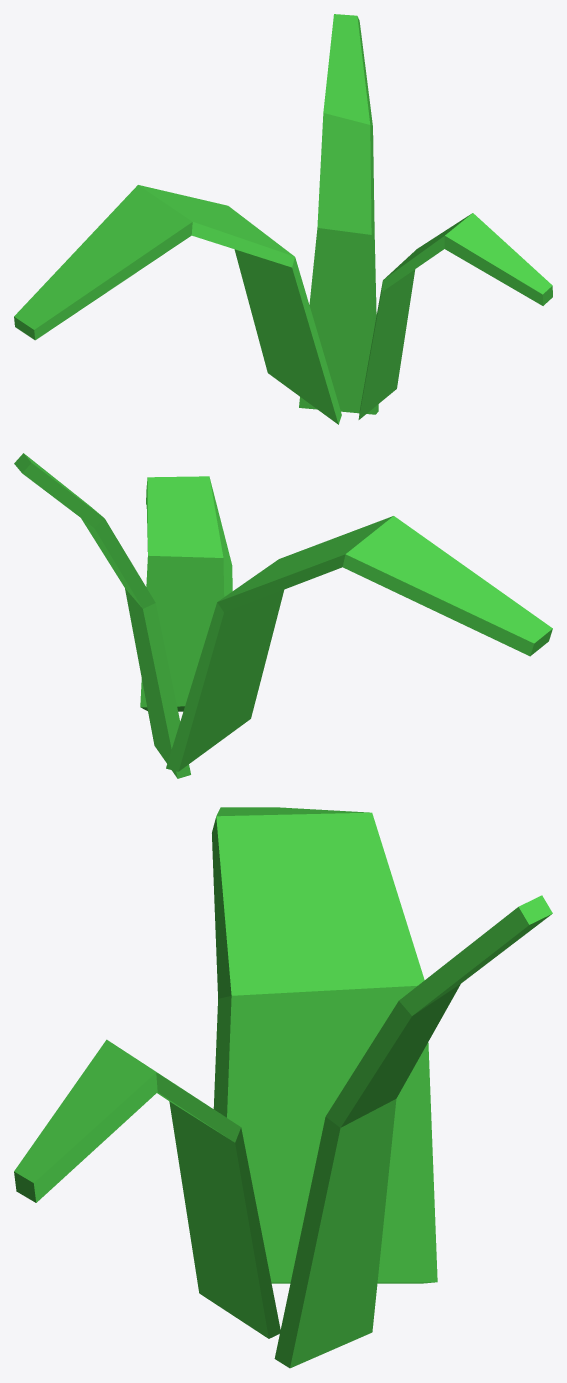
Rendered from GrassPollSmall1.fbx.
3 renders of one model, top to bottom at view 1: azimuth 30°, elevation 25°; view 2: azimuth 150°, elevation 25°; view 3: azimuth 270°, elevation 25°, orthographic. The views are drawn at different scales.
Visible parts, largest first — view 1: GrasspollSmall1; view 2: GrasspollSmall1; view 3: GrasspollSmall1.
Part boxes in pixels (x1,y1,x2,y2): GrasspollSmall1: [14, 14, 552, 424]; GrasspollSmall1: [14, 453, 552, 778]; GrasspollSmall1: [14, 807, 552, 1368].
Size of the model in its own units: 89.8 by 61.39 by 59.65.
